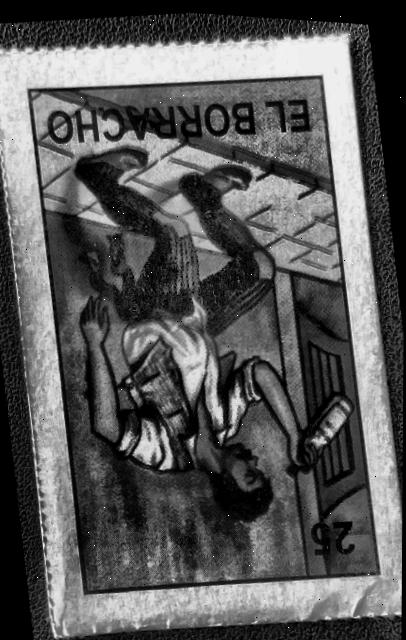El Borracho: (3, 33, 394, 621)
